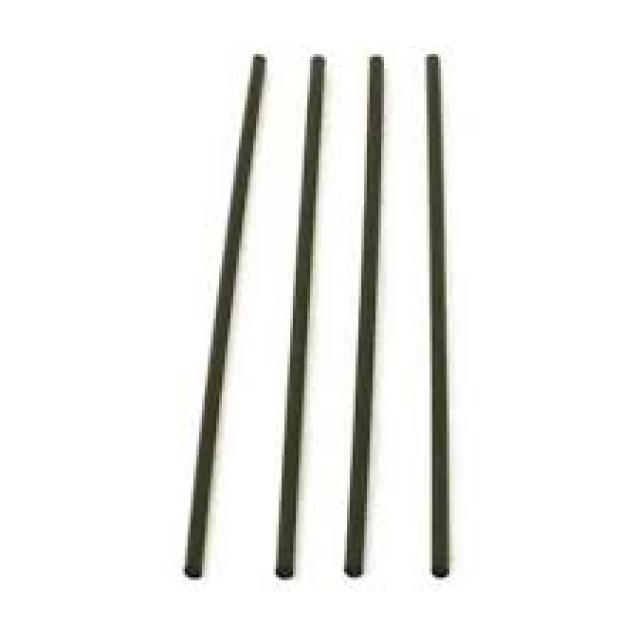straw: (185, 55, 265, 577), (275, 55, 325, 578), (345, 56, 379, 577), (431, 55, 448, 576)
